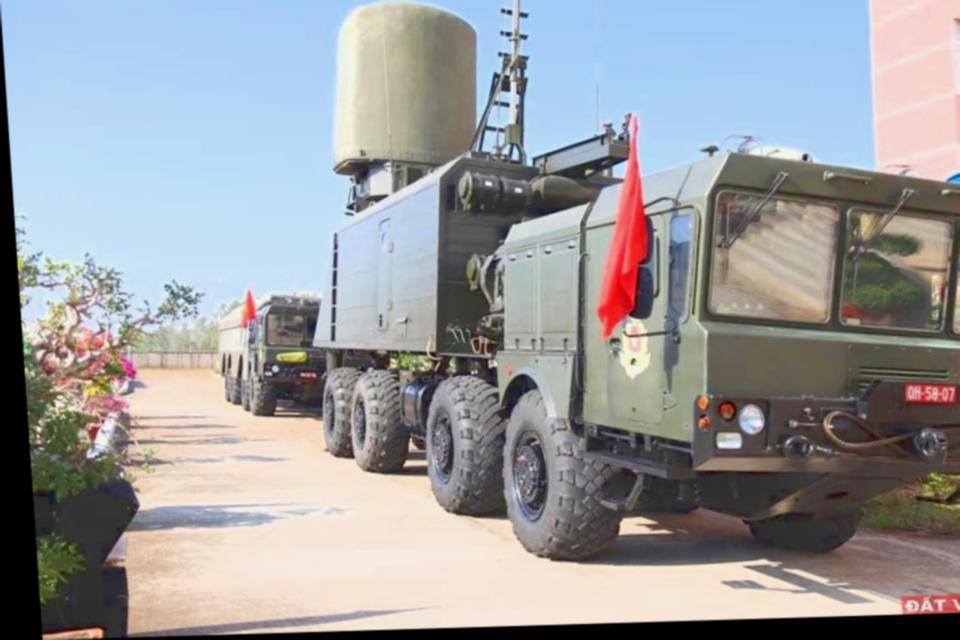License_Plate: (897, 374, 960, 409)
